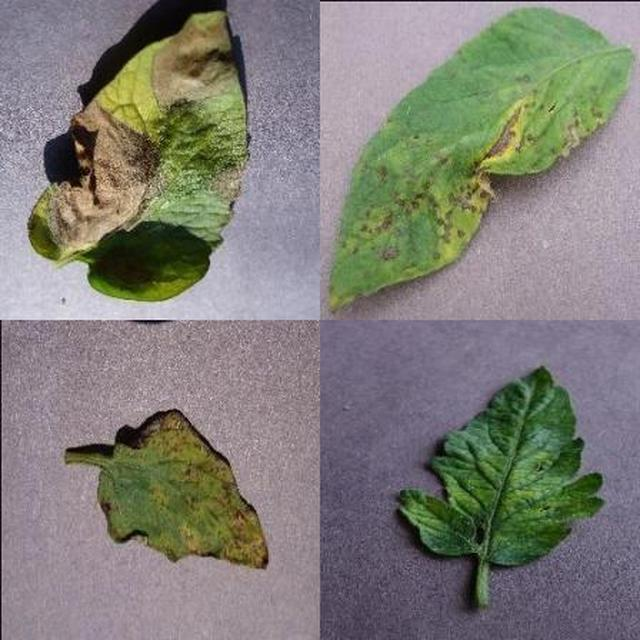Late Blight Leaf: (198, 222, 640, 640)
